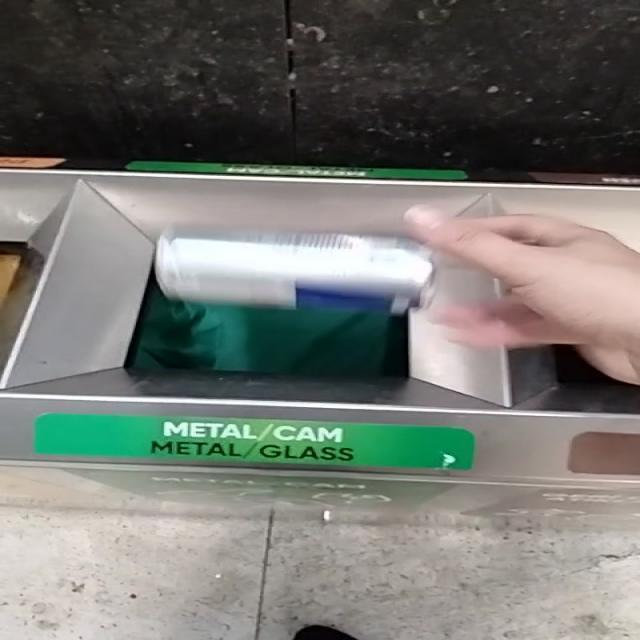Metal: (156, 230, 433, 310)
